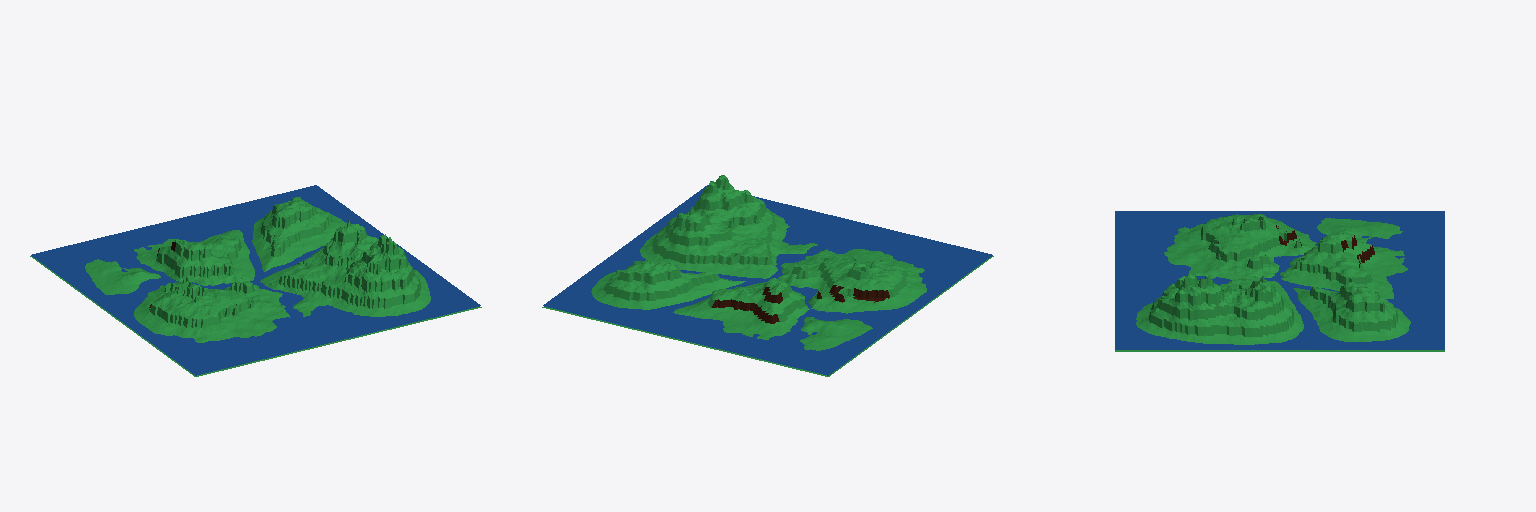
The model's file is moon.obj.
3 renders of one model, left to right at view 1: azimuth 30°, elevation 25°; view 2: azimuth 150°, elevation 25°; view 3: azimuth 270°, elevation 25°, orthographic.
Parts seen in each view (by area): view 1: Surface, Surface_plane; view 2: Surface, Surface_plane; view 3: Surface, Surface_plane.
Boxes of the visible parts, x1=… form: Surface: x1=30, y1=197, x2=481, y2=376; Surface_plane: x1=31, y1=185, x2=480, y2=375; Surface: x1=542, y1=175, x2=993, y2=376; Surface_plane: x1=543, y1=185, x2=992, y2=375; Surface: x1=1115, y1=214, x2=1444, y2=351; Surface_plane: x1=1115, y1=211, x2=1444, y2=349.
Size of the model in its own units: 10.34 by 1.79 by 10.34.